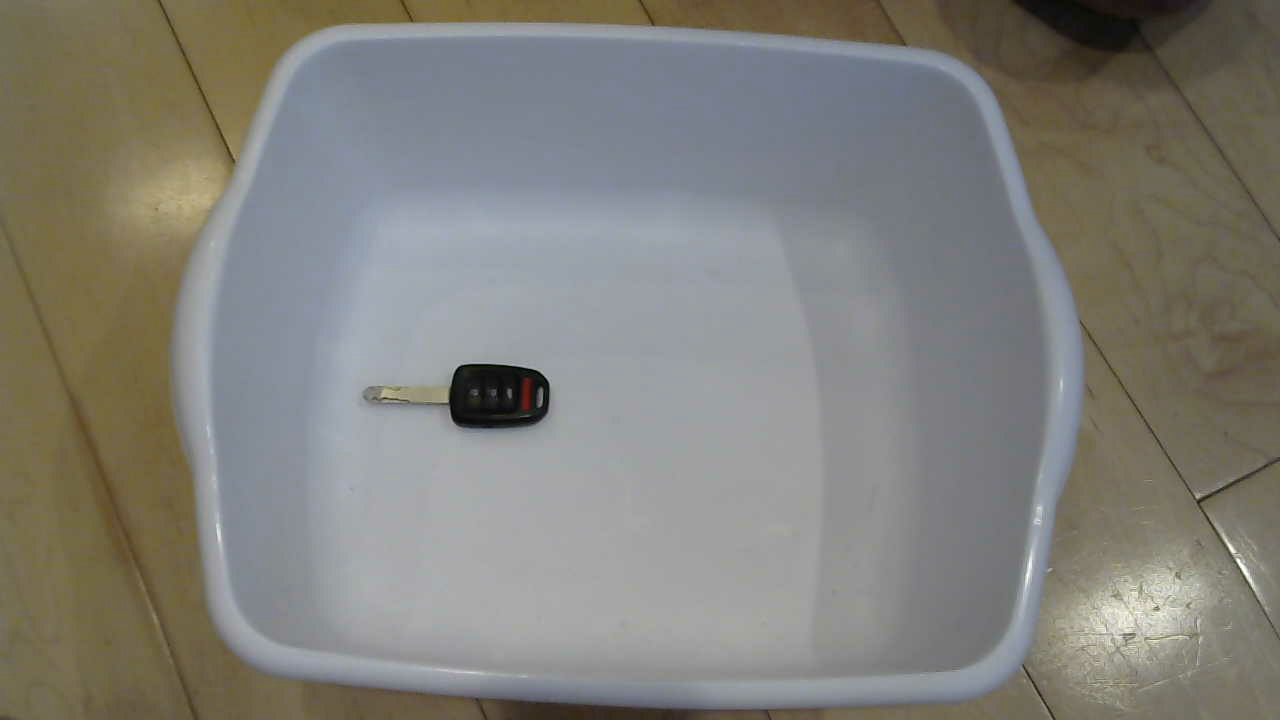key: (346, 347, 572, 448)
